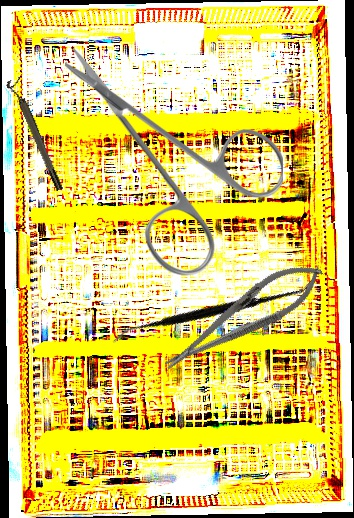Fixation Ring: (5, 76, 65, 194)
Iris Scissors: (65, 47, 283, 276)
Needle Holder: (153, 249, 333, 385)
Spatula Surgical: (111, 205, 317, 413)
